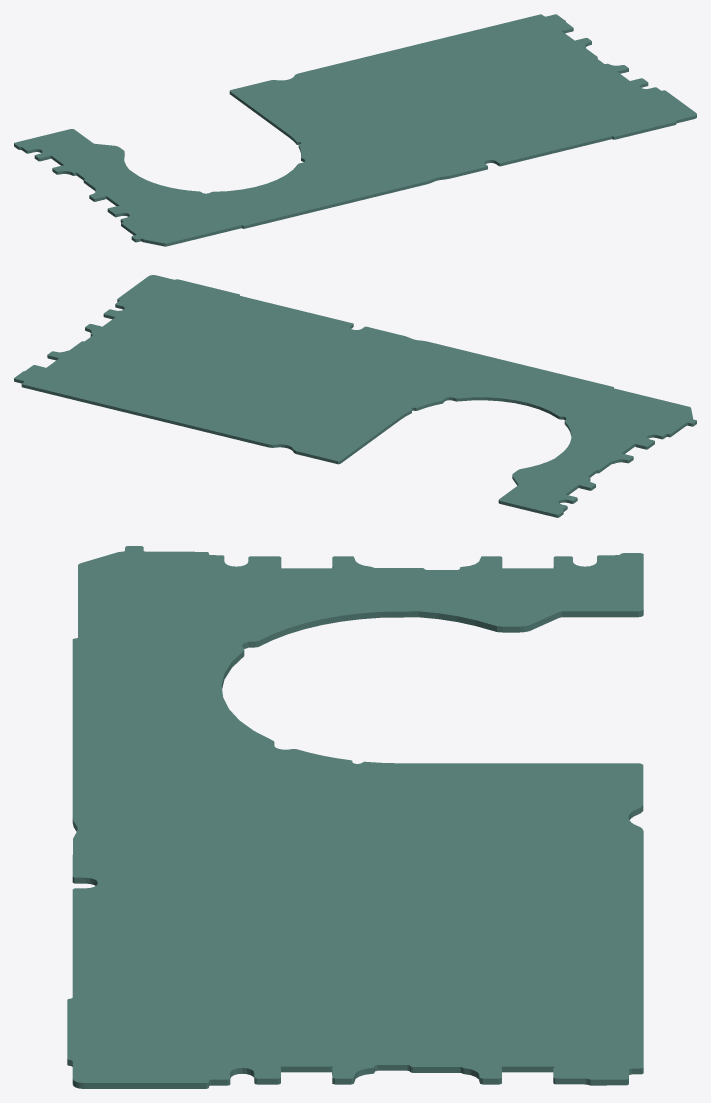
File: framework-laptop-13-mainboard.glb
3 views of the same model, one above another, from view 1: azimuth 30°, elevation 25°; view 2: azimuth 150°, elevation 25°; view 3: azimuth 270°, elevation 25° (orthographic). The views are drawn at different scales.
Parts seen in each view (by area): view 1: world; view 2: world; view 3: world.
Part boxes in pixels (x1,y1,x2,y2): world: (14,14,696,246); world: (14,275,696,517); world: (67,546,643,1088).
Size of the model in its own units: 0.2333 by 0.0012 by 0.1058.
